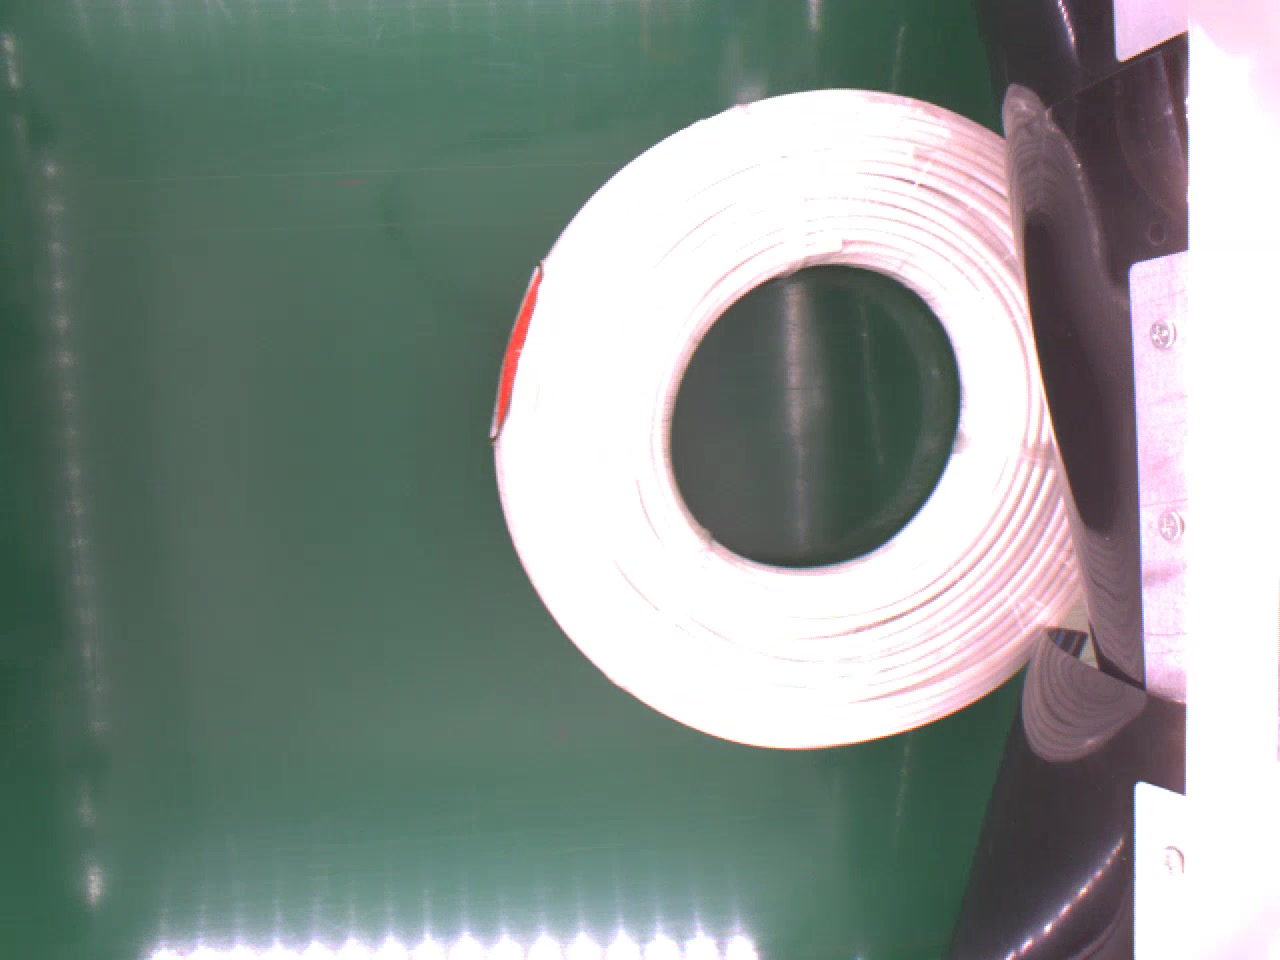white: (493, 84, 1089, 761)
